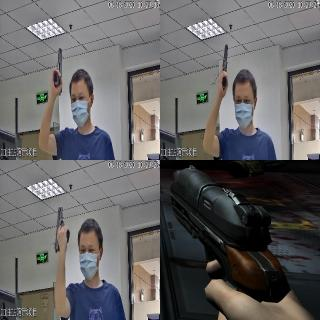gun: (159, 161, 305, 319), (52, 206, 69, 247), (49, 49, 65, 89), (216, 45, 230, 83)
